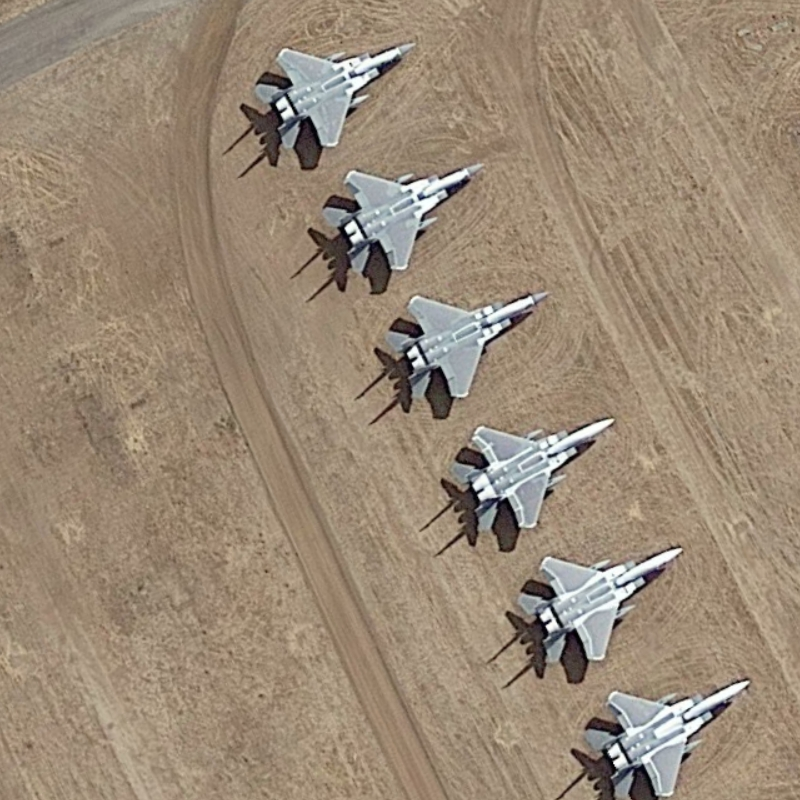A13: (437, 406, 623, 550), (504, 540, 690, 669), (243, 22, 423, 154), (313, 157, 494, 287), (572, 673, 758, 797), (381, 285, 557, 411)
